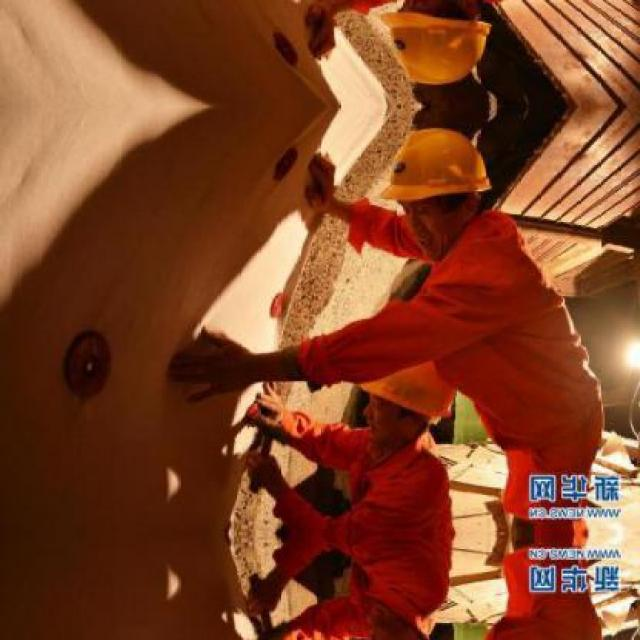Reflective-Jacket: (388, 222, 606, 515), (269, 408, 466, 602)
Safety-Helmet: (374, 120, 503, 214), (340, 348, 460, 428)
